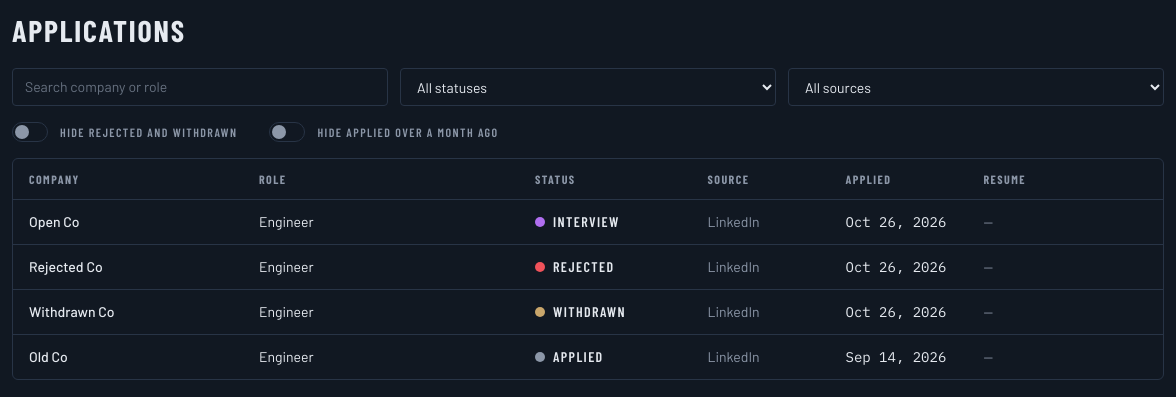
ApplicationsPage toggles › is disabled while a specific status is selected
Select "Rejected" in the dropdown named "Filter by status". click: (588, 87)
box: [400,68,776,106]
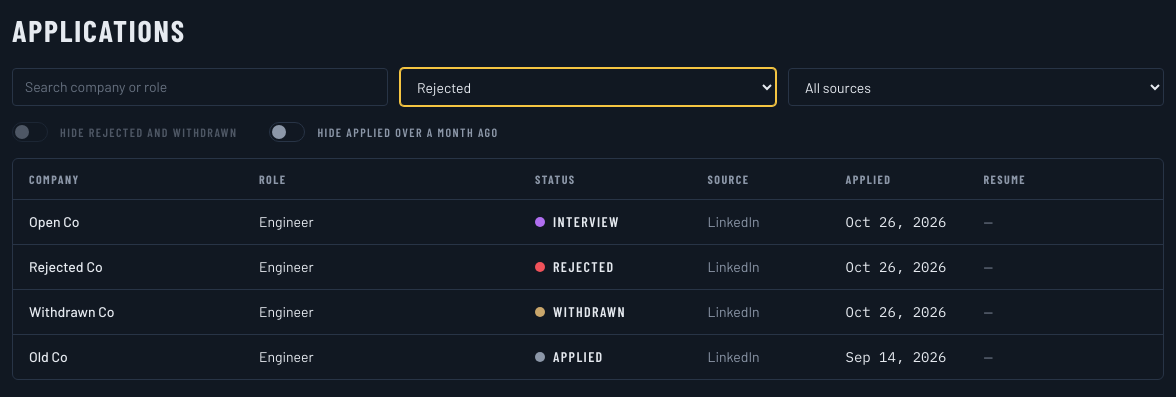
Check: the switch labelled "Hide rejected and withdrawn" is disabled, box [12,122,238,142]
